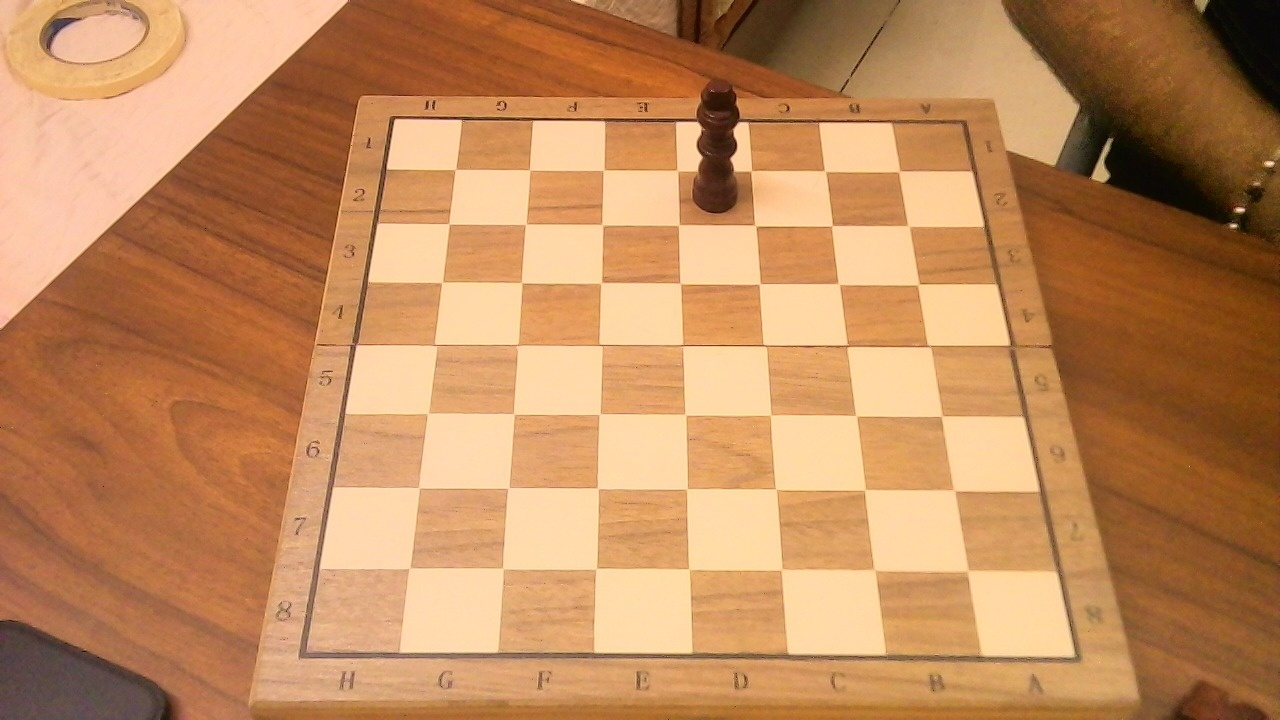k: (685, 67, 755, 217)
